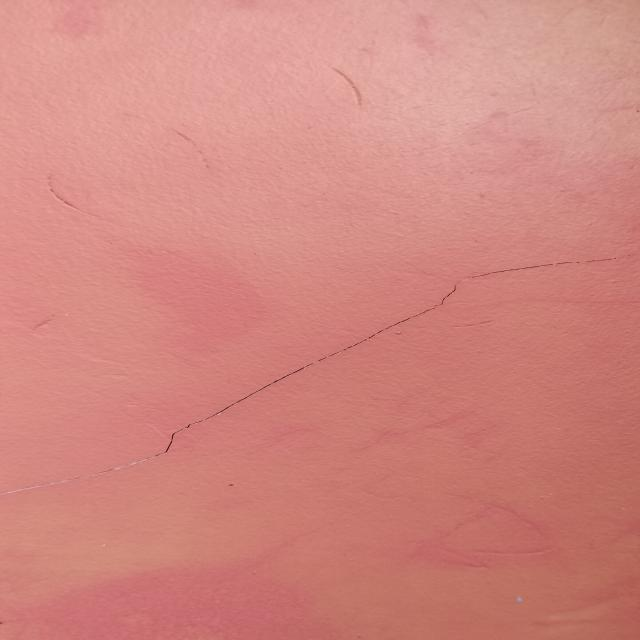Crack: (5, 254, 640, 494)
